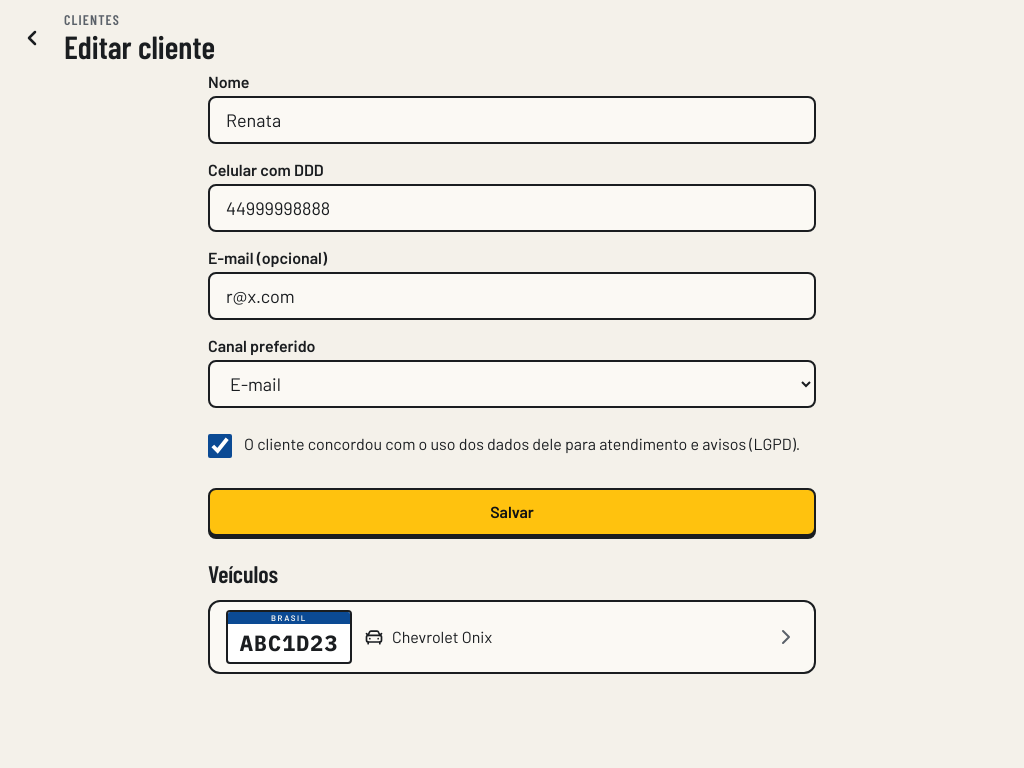
Test: Cliente (formulário) › edita e mostra os veículos do cliente
Expected: the text "ABC1D23" is shown, [240,628,338,657]
Type " Souza" into the field labelled "Nome". click: {"x": 512, "y": 120}
box: [208,96,816,144]
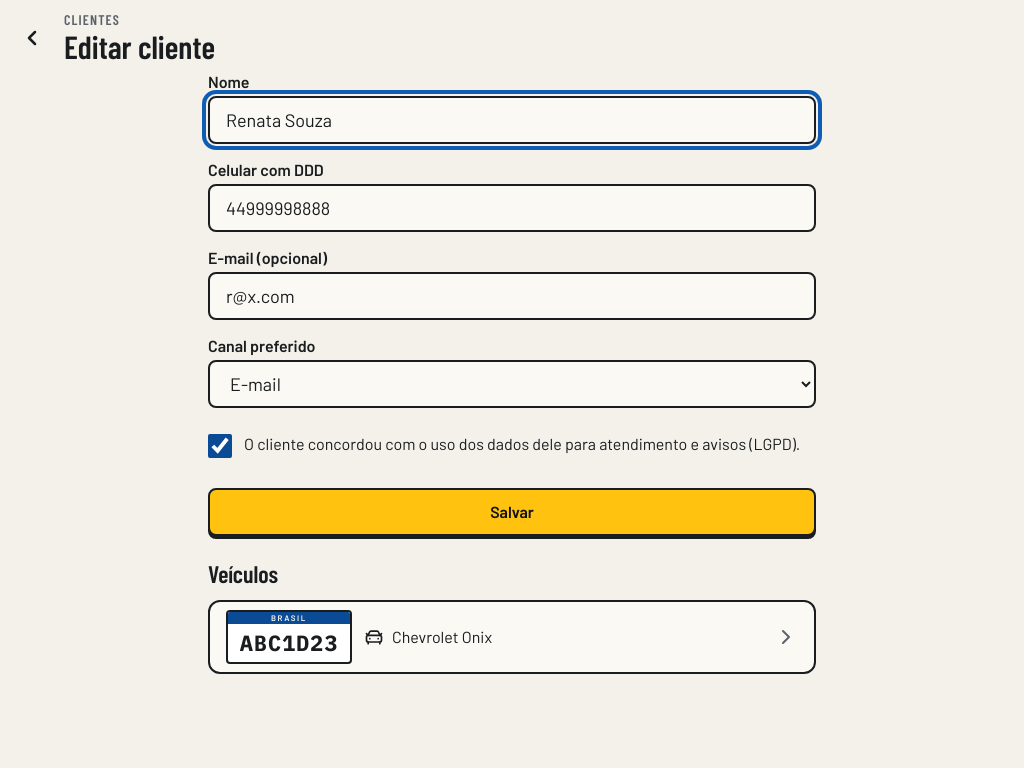
Click the button "Salvar". click: {"x": 512, "y": 512}
box: [208,488,816,536]
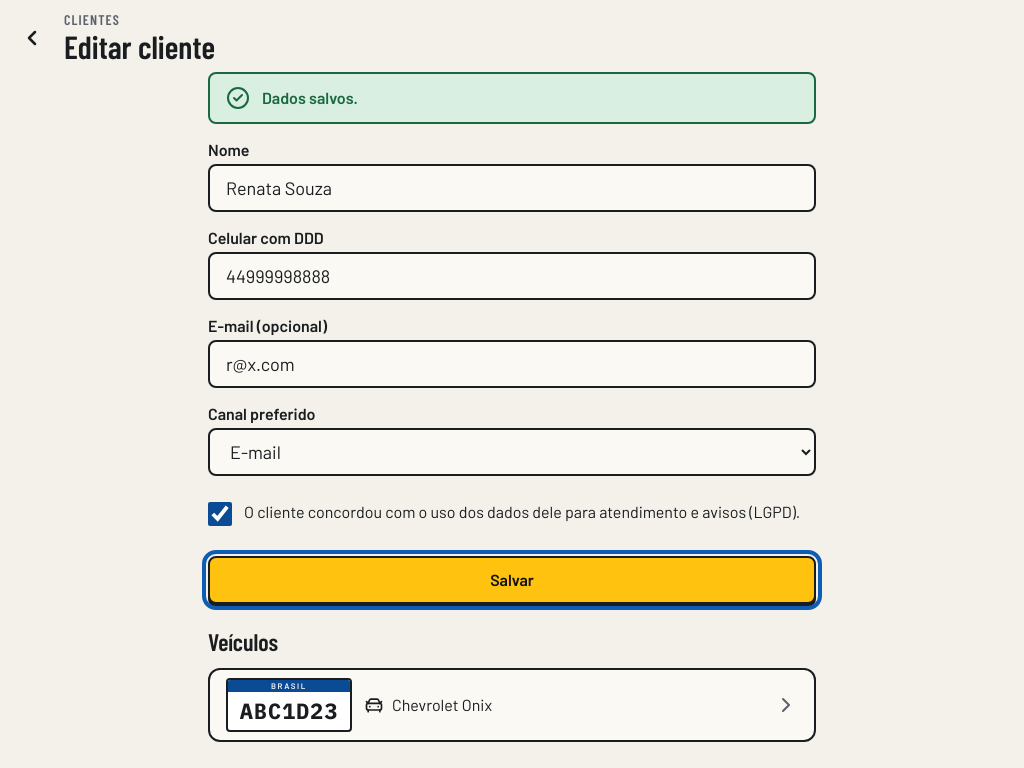
Expected: the text "Dados salvos." is shown, [262,88,358,107]
